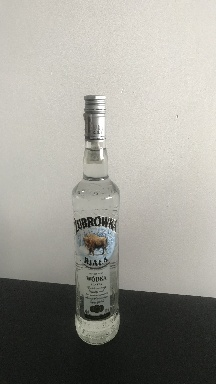butelka: (70, 92, 121, 348)
